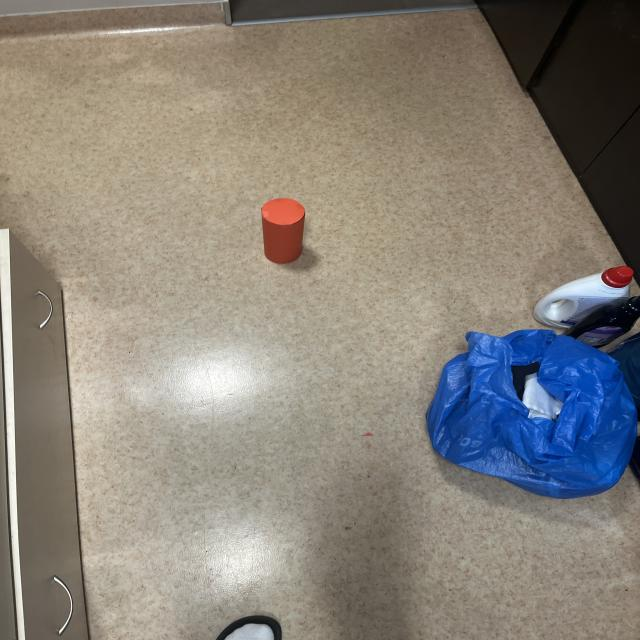przeszkoda: (261, 198, 305, 263)
